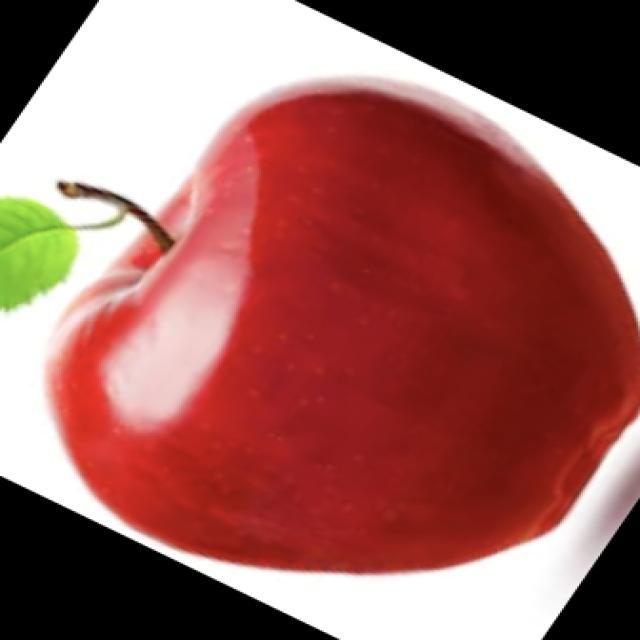Apple: (41, 73, 639, 575)
